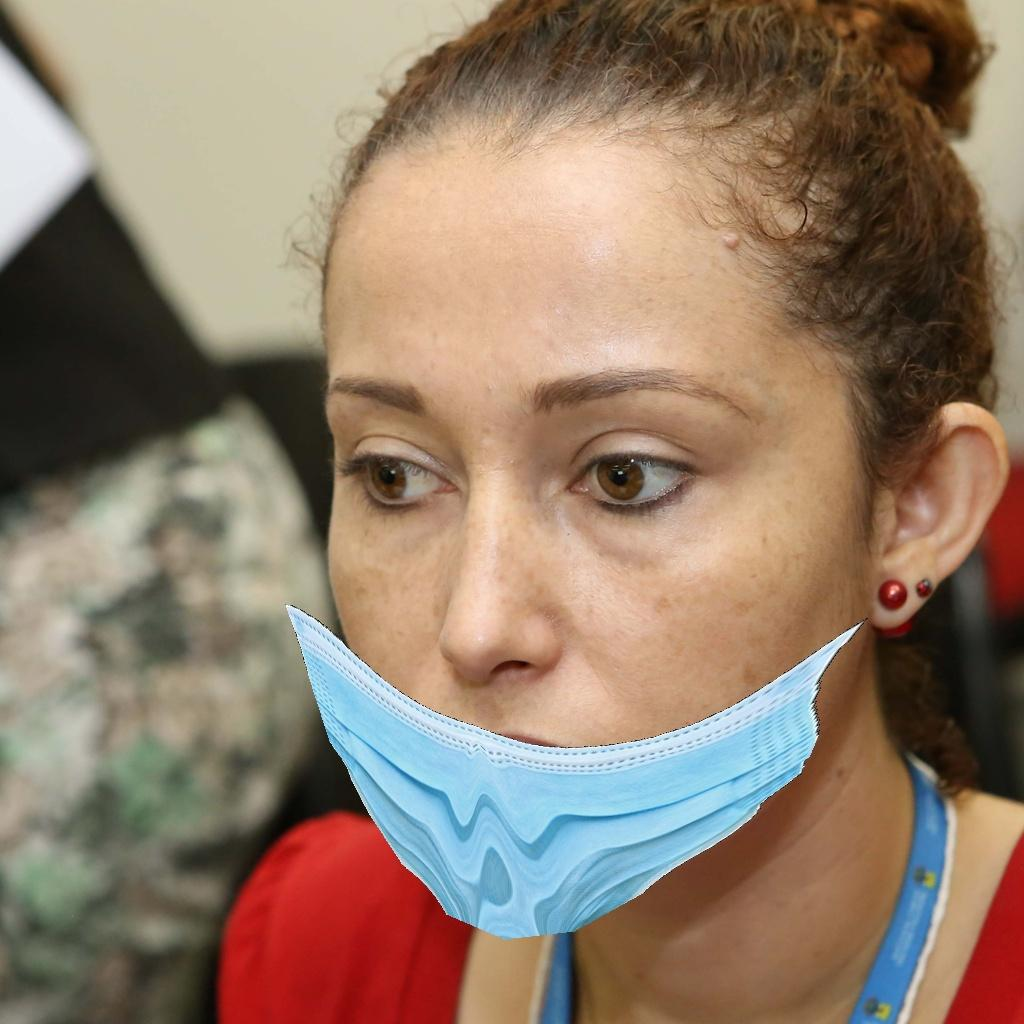Máscara Incorreta: (301, 180, 864, 901)
